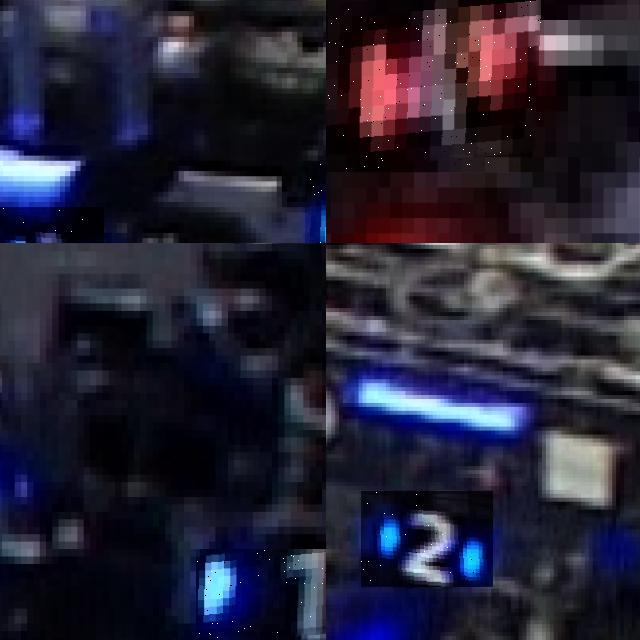B1: (196, 549, 326, 640)
B2: (361, 491, 493, 587), (0, 207, 104, 243), (305, 160, 326, 243)
R4: (326, 0, 544, 172)
